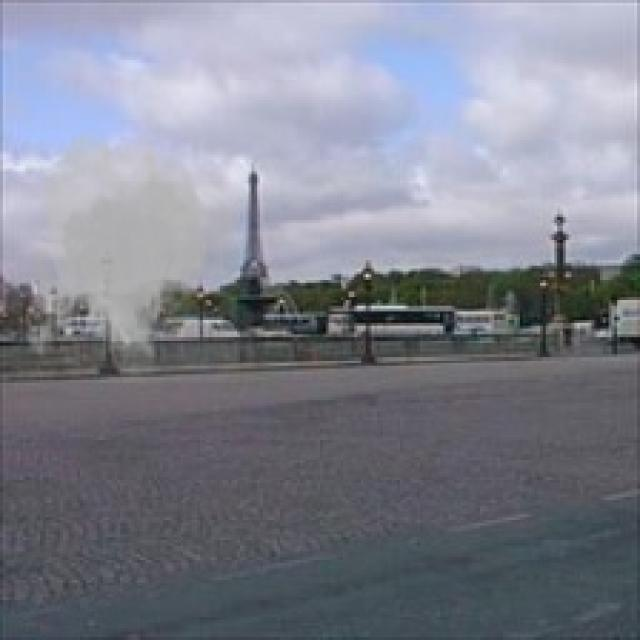smoke: (17, 126, 240, 383)
